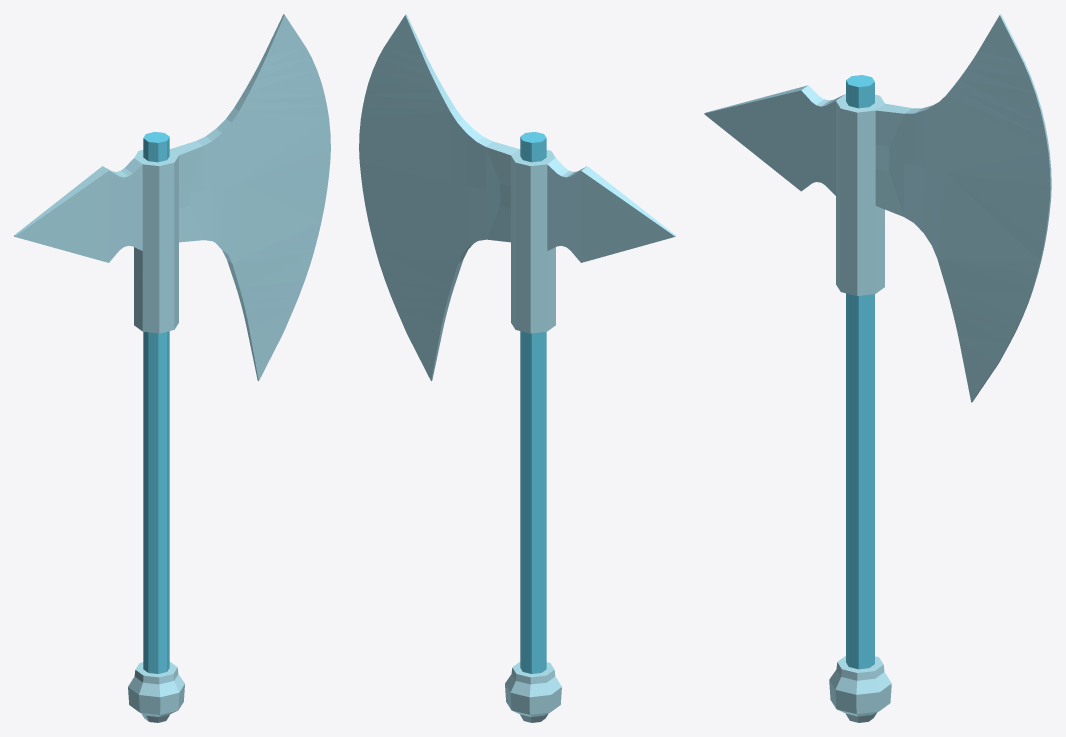
Rendered from one_handed_axe_7.fbx.
3 renders of one model, left to right at view 1: azimuth 30°, elevation 25°; view 2: azimuth 150°, elevation 25°; view 3: azimuth 330°, elevation 25°, orthographic. The views are drawn at different scales.
Visible parts, largest first — view 1: one_handed_axe_7; view 2: one_handed_axe_7; view 3: one_handed_axe_7.
Boxes of the visible parts, left/top/right/bottom form: one_handed_axe_7: left=14, top=14, right=330, bottom=722; one_handed_axe_7: left=359, top=14, right=675, bottom=722; one_handed_axe_7: left=704, top=14, right=1051, bottom=722.
Size of the model in its own units: 0.6599 by 1.34 by 0.0964.
Materials: 1 (1 with a texture image).
